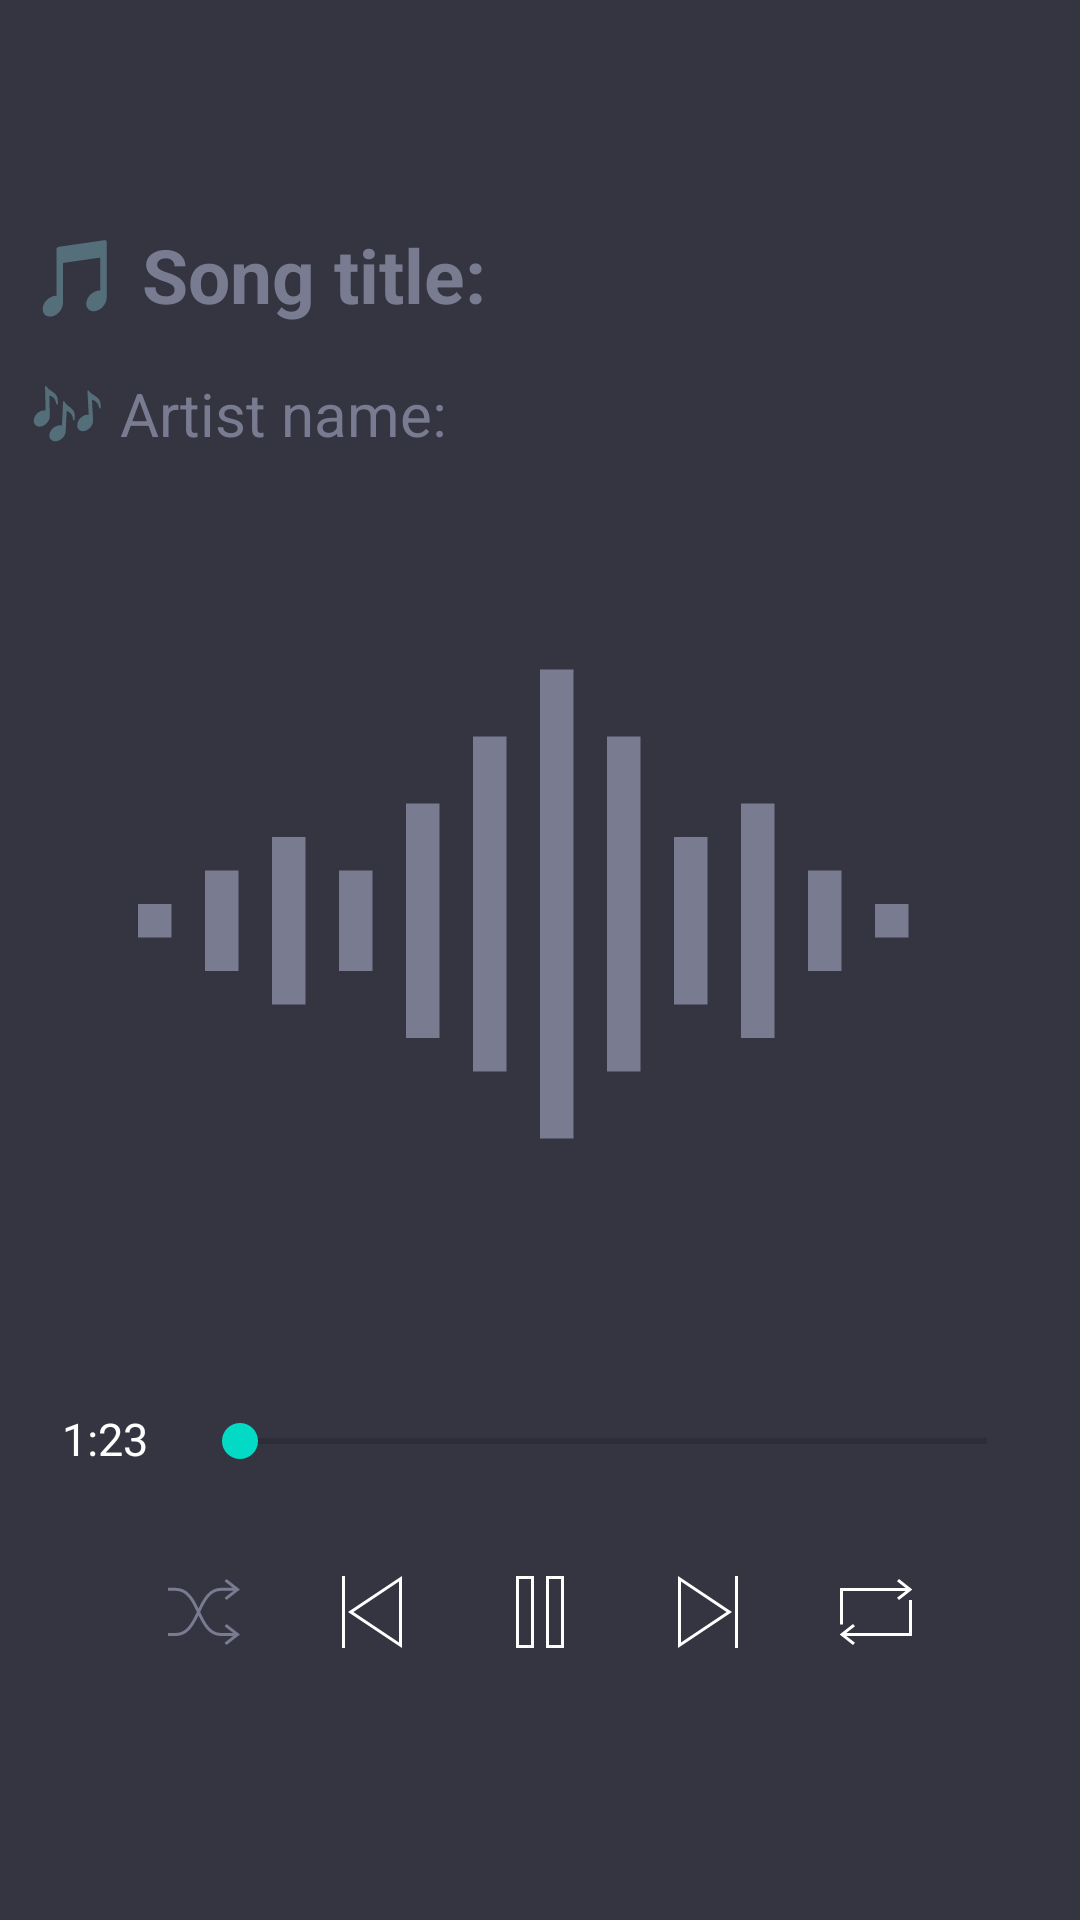

Locate icon controls on the screen. Image size 1080w x 1920h, boxes as (x1, y1, x2, y2).
iconmonstr loop: (840, 1579, 912, 1645)
iconmonstr next: (678, 1576, 738, 1648)
iconmonstr pause: (516, 1576, 564, 1648)
iconmonstr previous: (342, 1576, 402, 1648)
iconmonstr random: (168, 1579, 240, 1645)
